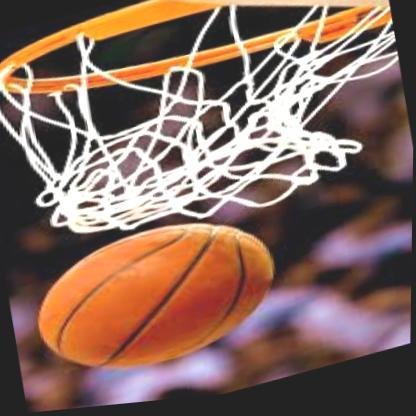basketball: (26, 203, 284, 395)
rim: (0, 0, 416, 268)
